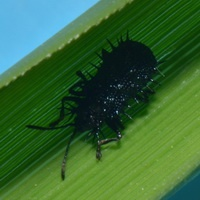insect: (26, 31, 158, 179)
